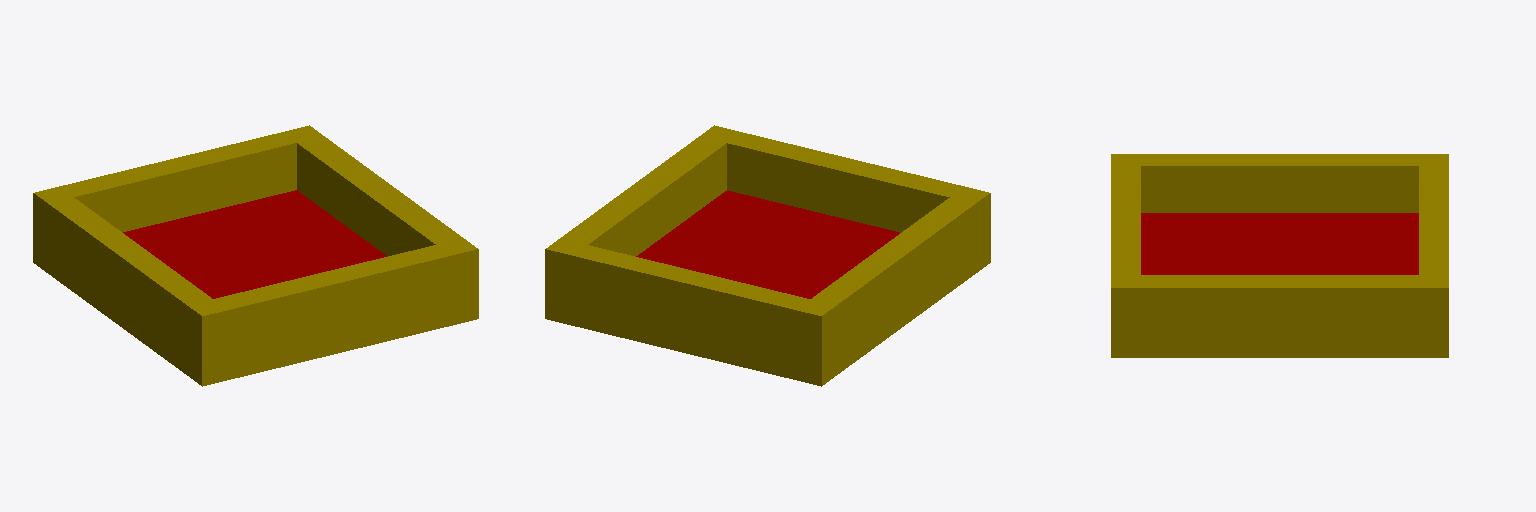
The model's file is table.obj.
The picture shows the model from 3 angles: view 1: azimuth 30°, elevation 25°; view 2: azimuth 150°, elevation 25°; view 3: azimuth 270°, elevation 25°; orthographic projection.
Visible parts, largest first — view 1: Cube; view 2: Cube; view 3: Cube.
Boxes of the visible parts, box(x1,y1,x2,y2) form: Cube: box(33, 125, 478, 386); Cube: box(545, 125, 990, 386); Cube: box(1111, 154, 1448, 357).
Size of the model in its own units: 4.58 by 1.11 by 4.85.